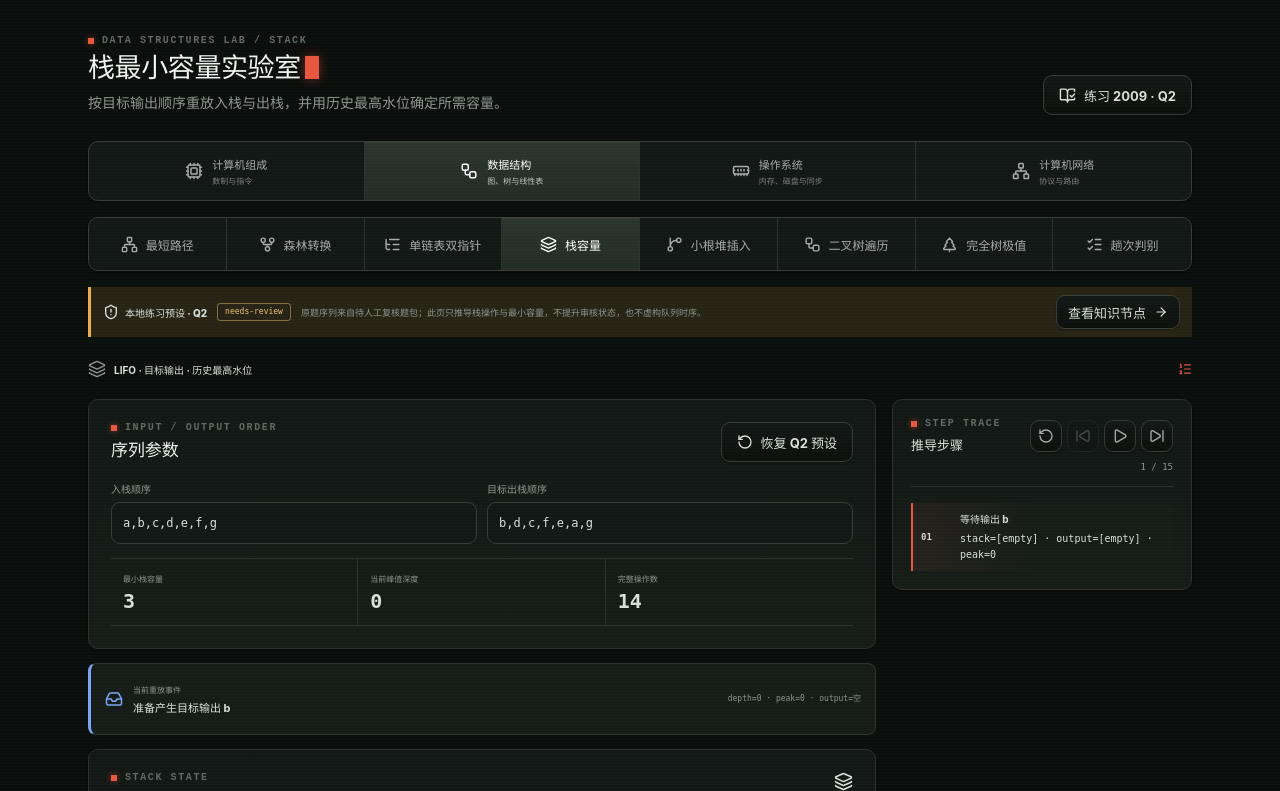
Test case: StackCapacityLabPage › keeps the stack, high-water mark, and produced prefix synchronized with steps
Click the button named "下一步" at (1157, 436), box [1141,420,1173,452]
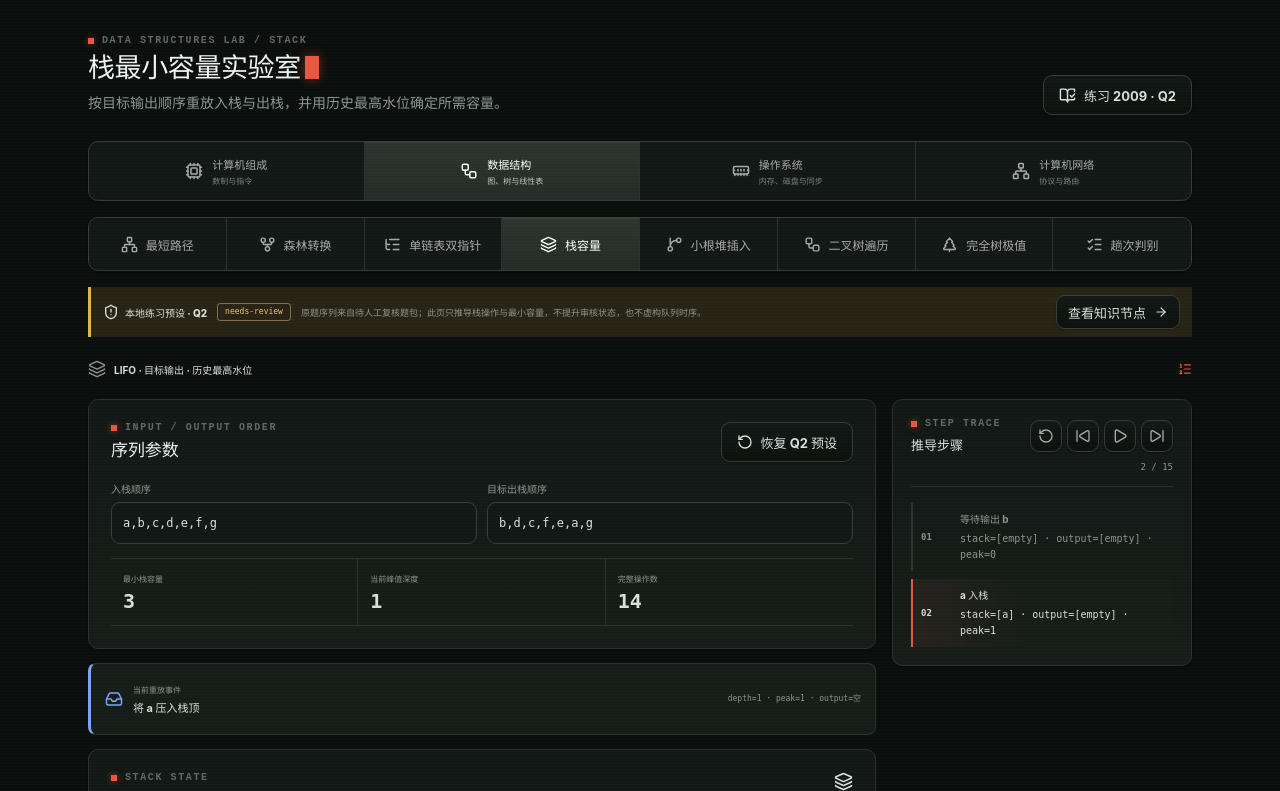
Click the button named "下一步" at (1157, 436), box [1141,420,1173,452]
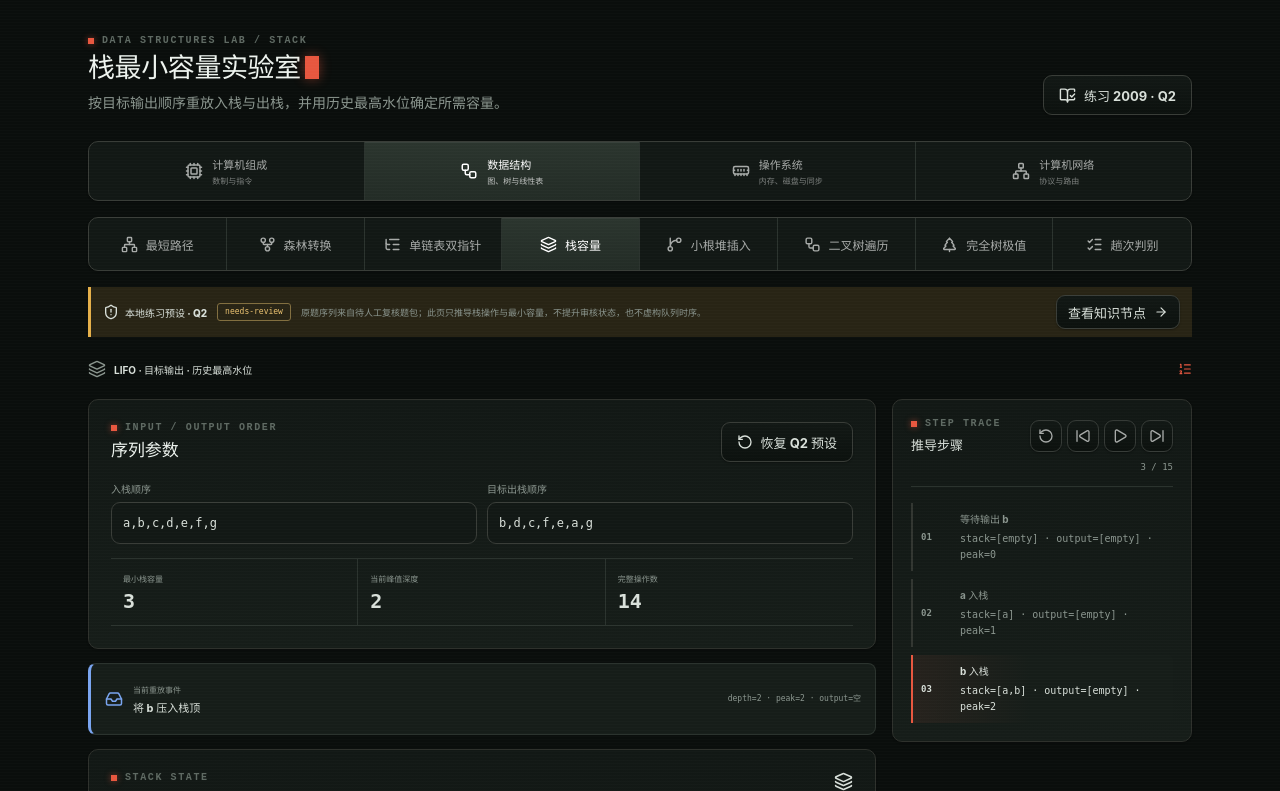
Click the button named "下一步" at (1157, 436), box [1141,420,1173,452]
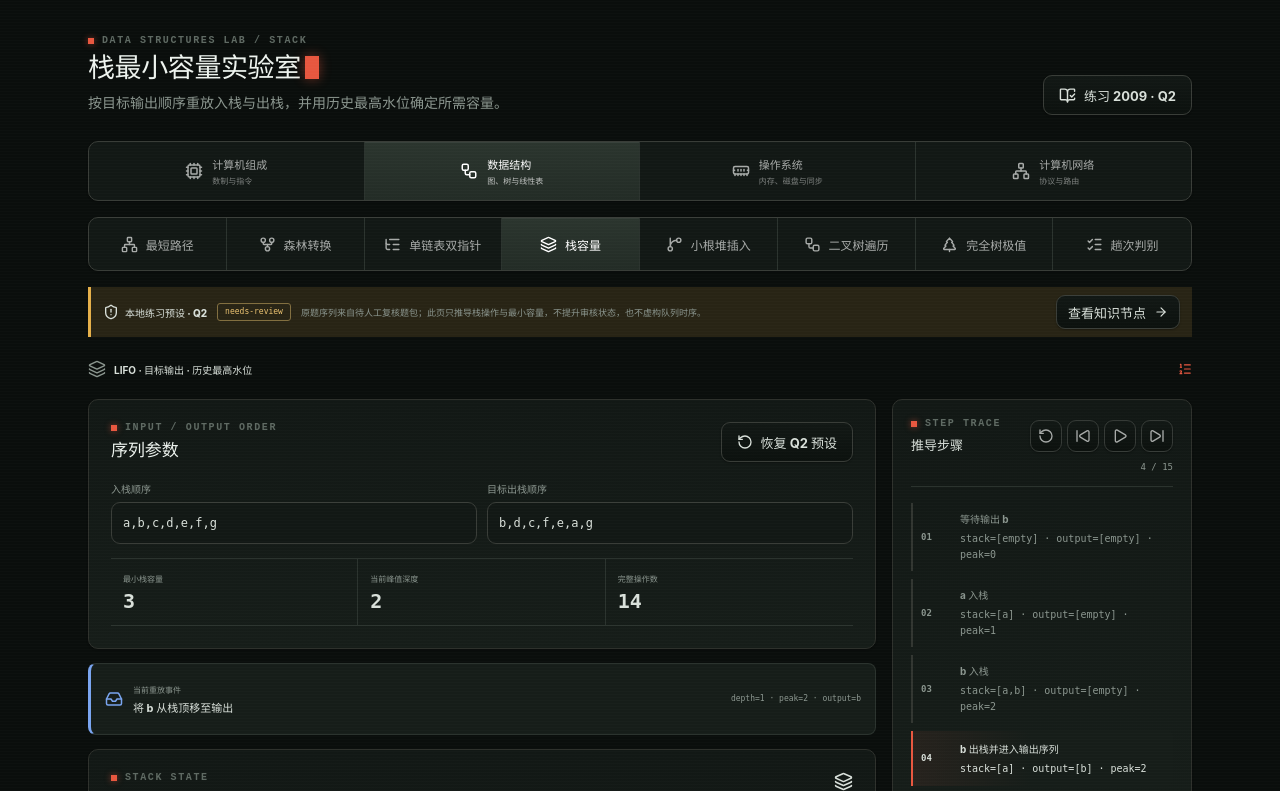
Click the button named "下一步" at (1157, 436), box [1141,420,1173,452]
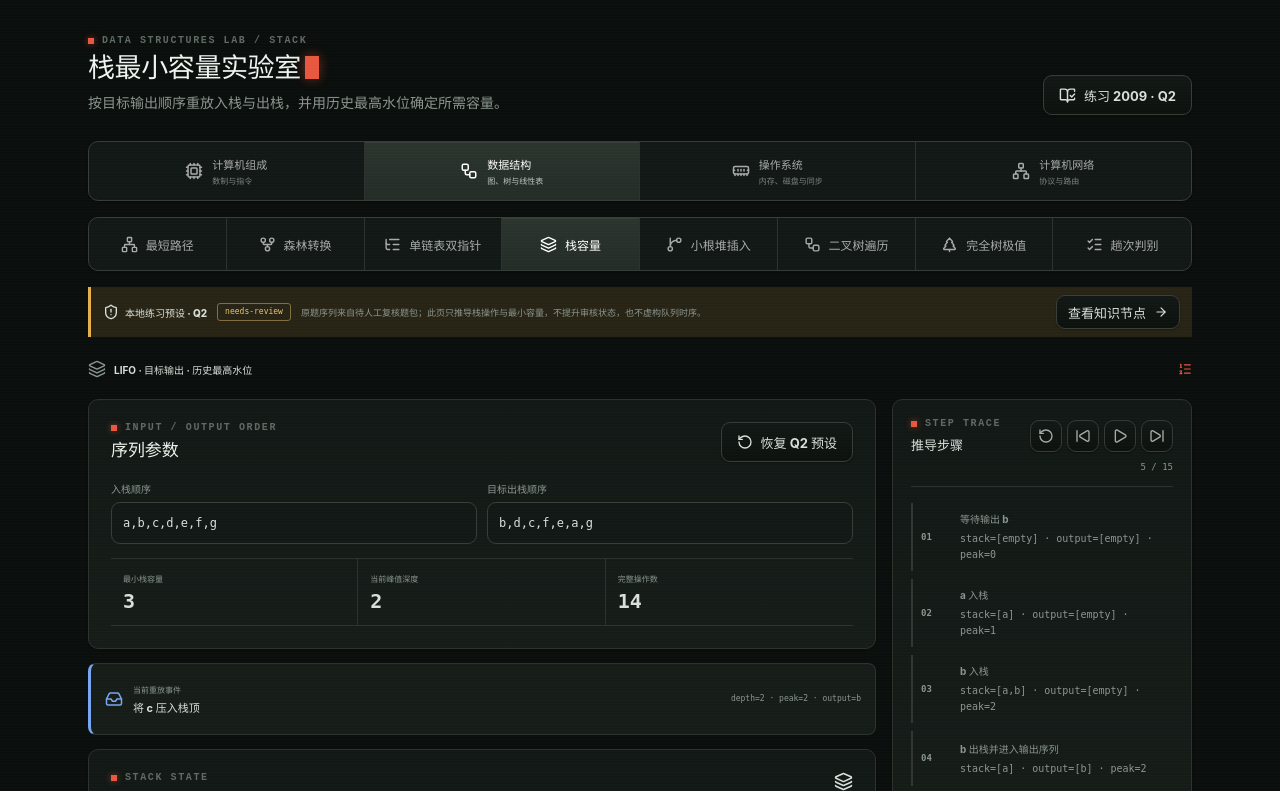
Click the button named "下一步" at (1157, 436), box [1141,420,1173,452]
(page scrolled)
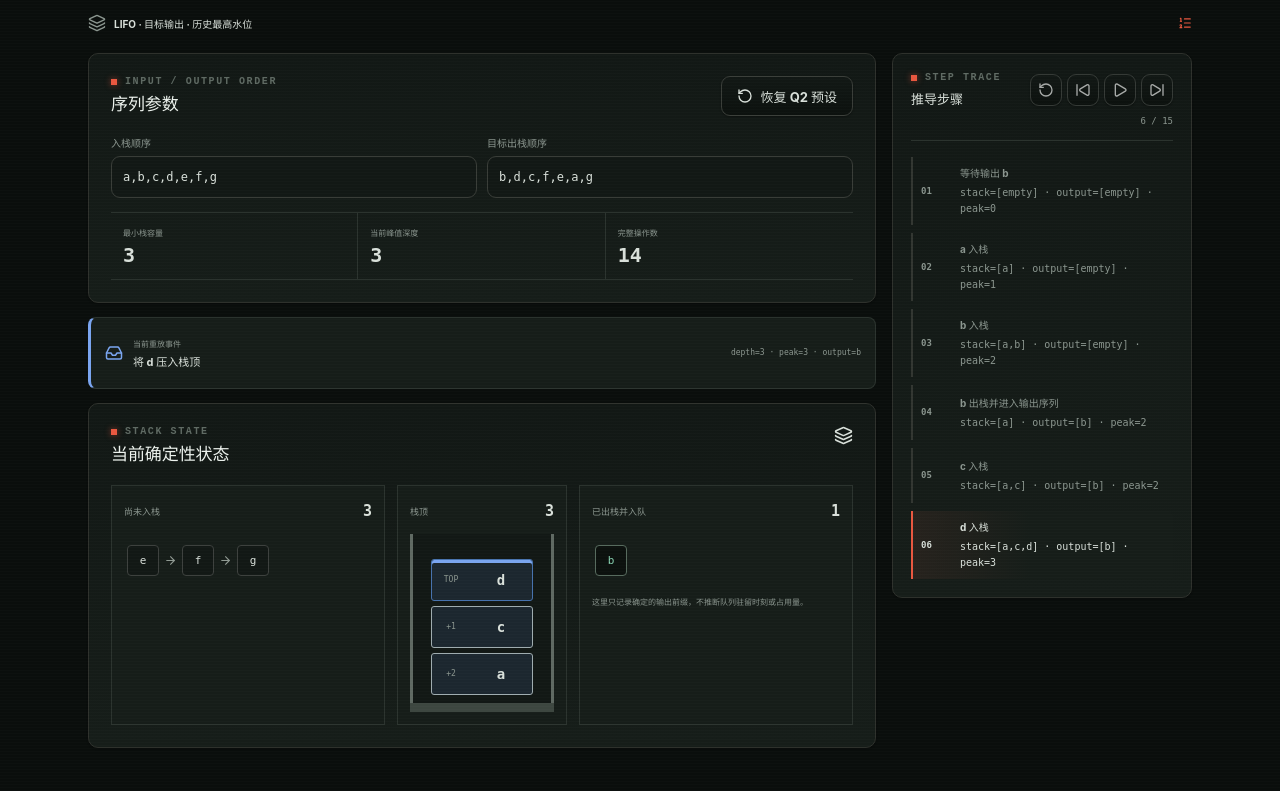
Expected: the element named "当前栈" shows "a", [497,666,505,682]
Expected: the text named "当前栈深度" reads "3", [545,502,554,520]
Expected: the element labelled "当前峰值深度" shows "3", [370,243,382,267]
